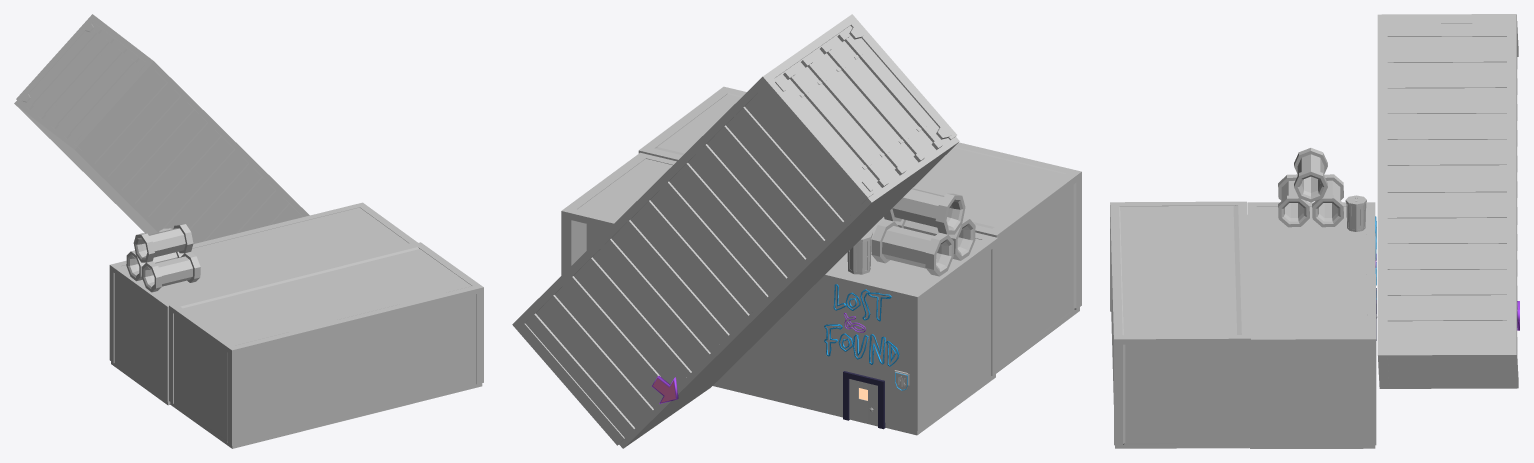
The model's file is CMLostandFound.fbx.
3 views of the same model, side by side, from view 1: azimuth 30°, elevation 25°; view 2: azimuth 150°, elevation 25°; view 3: azimuth 270°, elevation 25° (orthographic). The views are drawn at different scales.
Visible parts, largest first — view 1: BoxCrate.083, BoxCrate.092, LFCrate, 3Pipes.007; view 2: BoxCrate.092, LFCrate, BoxCrate.083, 3Pipes.007, Lost and FoundText, LFDoor, Cube.045, GarbageCan.011; view 3: BoxCrate.092, BoxCrate.083, LFCrate, 3Pipes.007, GarbageCan.011.
Part boxes in pixels (left/top/right/bottom): BoxCrate.083: left=169, top=242, right=483, bottom=448; BoxCrate.092: left=14, top=14, right=309, bottom=243; LFCrate: left=109, top=202, right=417, bottom=405; 3Pipes.007: left=126, top=224, right=200, bottom=292; BoxCrate.092: left=512, top=14, right=959, bottom=448; LFCrate: left=561, top=152, right=997, bottom=435; BoxCrate.083: left=638, top=86, right=1081, bottom=373; 3Pipes.007: left=871, top=188, right=975, bottom=276; Lost and FoundText: left=824, top=284, right=899, bottom=366; LFDoor: left=849, top=379, right=877, bottom=426; Cube.045: left=843, top=371, right=885, bottom=429; GarbageCan.011: left=847, top=231, right=872, bottom=274; BoxCrate.092: left=1377, top=14, right=1518, bottom=388; BoxCrate.083: left=1110, top=201, right=1250, bottom=448; LFCrate: left=1247, top=202, right=1376, bottom=448; 3Pipes.007: left=1278, top=148, right=1343, bottom=227; GarbageCan.011: left=1345, top=195, right=1366, bottom=231.
Size of the model in its own units: 2761 by 2669 by 3062.
